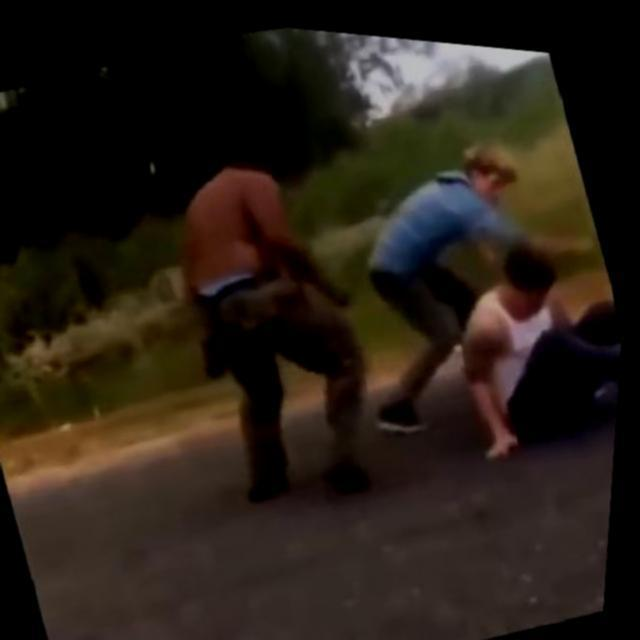fight: (318, 86, 636, 496)
